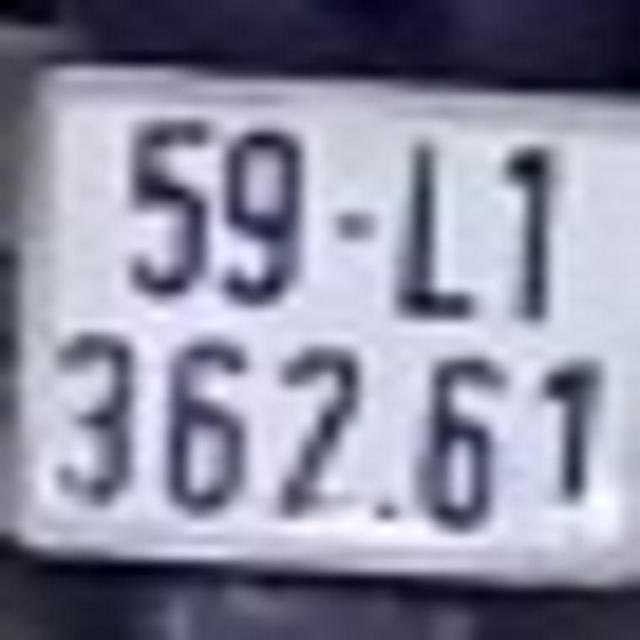1: (500, 143, 555, 315), (544, 355, 598, 528)
2: (279, 336, 361, 527)
3: (48, 322, 131, 504)
5: (128, 122, 208, 296)
6: (427, 352, 503, 537), (171, 343, 248, 512)
9: (221, 132, 309, 308)
L: (402, 133, 475, 312)
